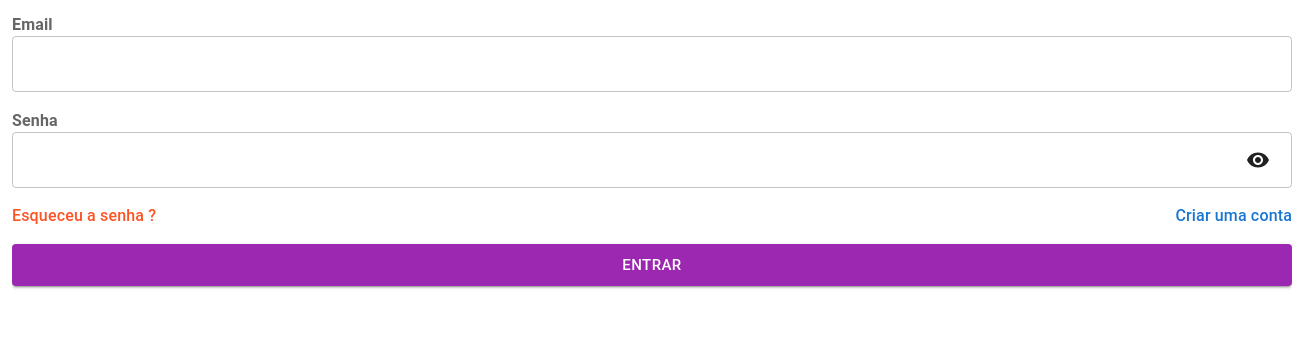
Test: LoginForm › behavior › deve exibir erro de validação para email e senha vazias
Click the button "Entrar" at (652, 265), box 12,244 -> 1292,286
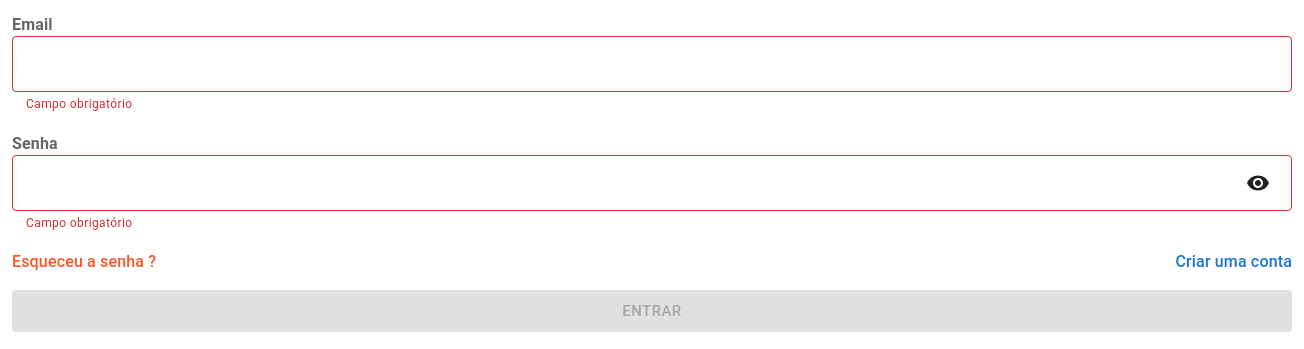
Expected: the field labelled "Email" is empty, 12,36 -> 1292,92
Expected: the text "Campo obrigatório" is shown 2 times, 26,97 -> 132,111; 26,216 -> 132,230
